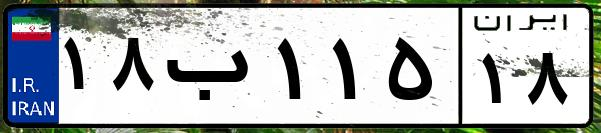1: (270, 28, 330, 110), (330, 28, 385, 110), (57, 26, 110, 100), (475, 38, 525, 113)
5: (385, 28, 445, 110)
8: (525, 38, 570, 115), (110, 28, 158, 98)
ب: (158, 20, 270, 120)
